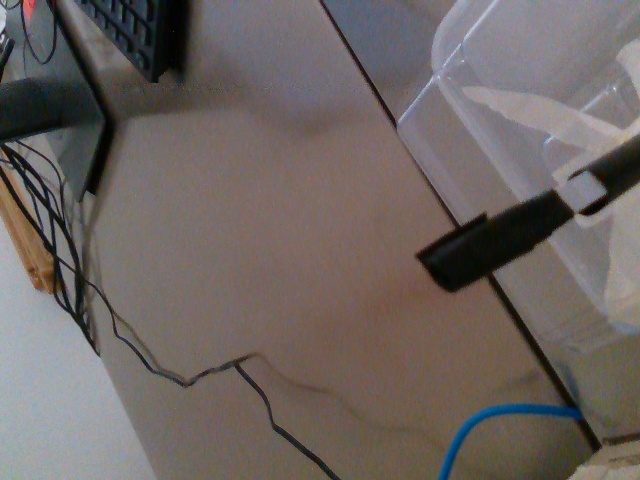test_strip: (413, 170, 603, 293)
